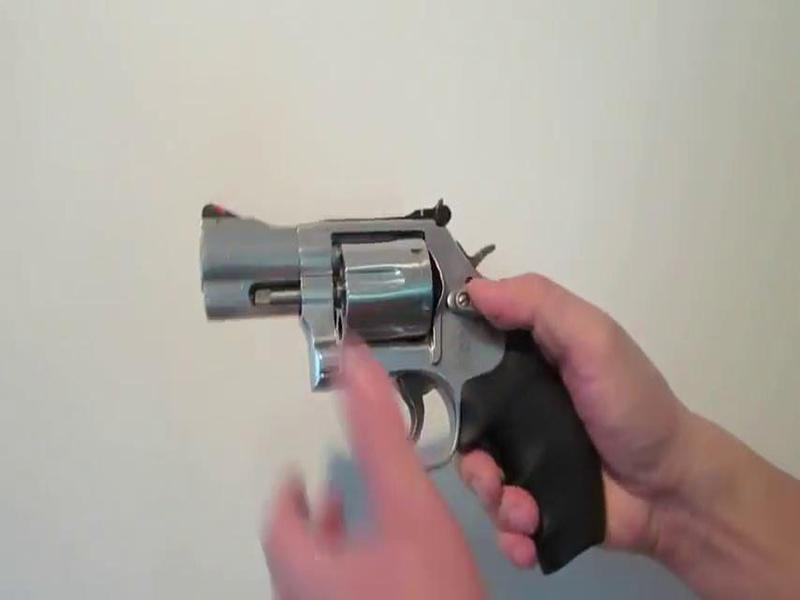Revolver: (183, 190, 610, 565)
